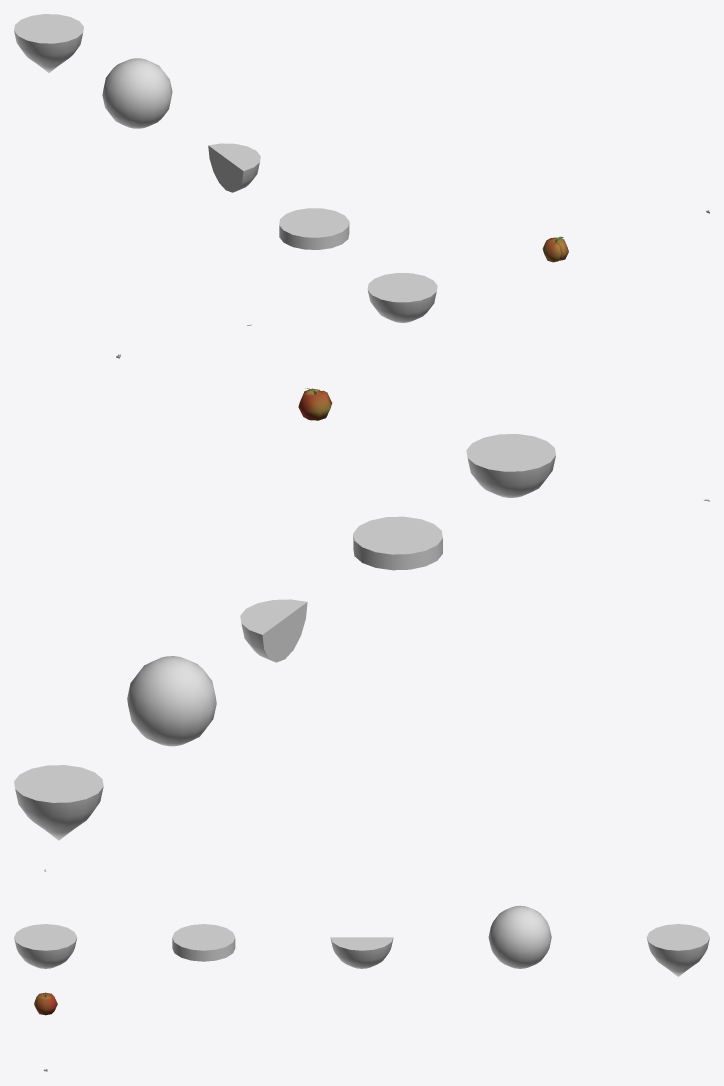
The model's file is picnic_food.glb.
3 renders of one model, top to bottom at view 1: azimuth 30°, elevation 25°; view 2: azimuth 150°, elevation 25°; view 3: azimuth 270°, elevation 25°, orthographic. The views are drawn at different scales.
Visible parts, largest first — view 1: Fruit Whole, Lemon Half, Fruit Half, Fruit Slice, Fruit Wedge, Peach; view 2: Fruit Whole, Lemon Half, Fruit Half, Fruit Slice, Fruit Wedge, Peach; view 3: Fruit Whole, Lemon Half, Fruit Half, Fruit Slice, Fruit Wedge, Peach.
Part boxes in pixels (x1,y1,x2,y2): Fruit Whole: (102, 58, 172, 128); Lemon Half: (14, 14, 83, 72); Fruit Half: (367, 273, 437, 322); Fruit Slice: (279, 208, 349, 249); Fruit Wedge: (208, 143, 260, 192); Peach: (542, 236, 568, 262); Fruit Whole: (127, 656, 216, 746); Lemon Half: (14, 765, 103, 840); Fruit Half: (466, 434, 555, 497); Fruit Slice: (353, 516, 442, 570); Fruit Wedge: (240, 599, 307, 662); Peach: (298, 388, 332, 420); Fruit Whole: (488, 905, 551, 968); Lemon Half: (646, 924, 709, 976); Fruit Half: (14, 924, 77, 968); Fruit Slice: (172, 924, 235, 961); Fruit Wedge: (330, 937, 393, 968); Peach: (34, 992, 57, 1015).
Bounding box in the file's own units: 15.12 × 2.39 × 22.
